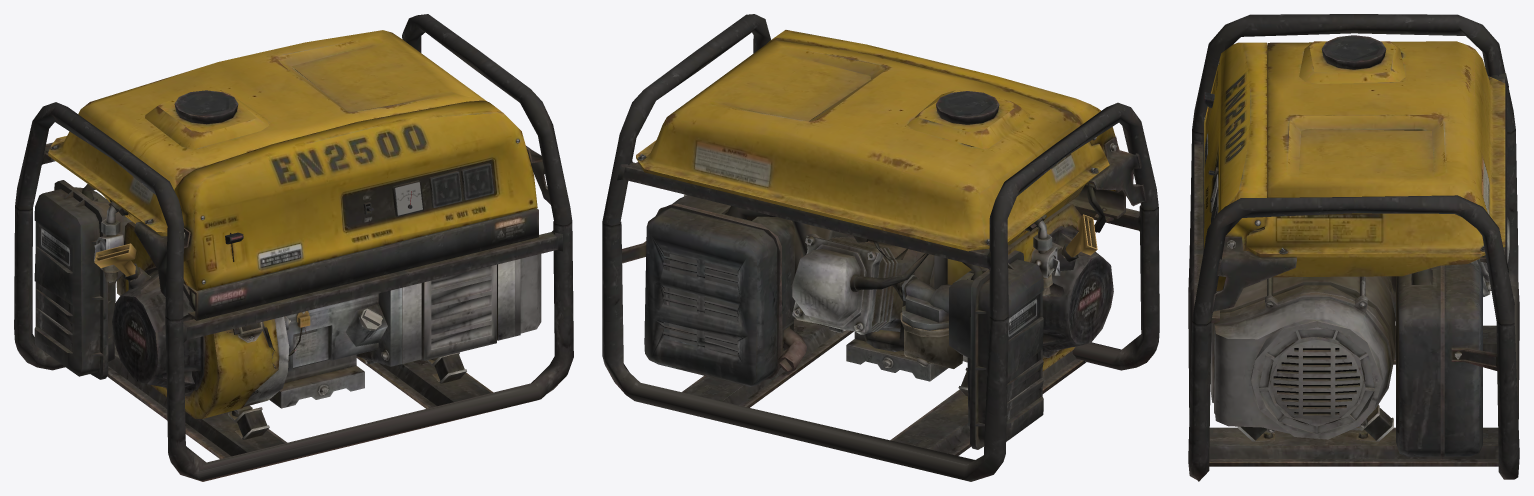
File: portable_generator.glb
3 renders of one model, left to right at view 1: azimuth 30°, elevation 25°; view 2: azimuth 150°, elevation 25°; view 3: azimuth 270°, elevation 25°, orthographic.
Visible parts, largest first — view 1: portable_generator; view 2: portable_generator; view 3: portable_generator.
Boxes of the visible parts, box(x1,y1,x2,y2) form: portable_generator: box(14, 14, 573, 481); portable_generator: box(602, 14, 1159, 481); portable_generator: box(1188, 14, 1519, 481).
Size of the model in its own units: 0.8166 by 0.5752 by 0.564.
2 materials, 2 textured.
